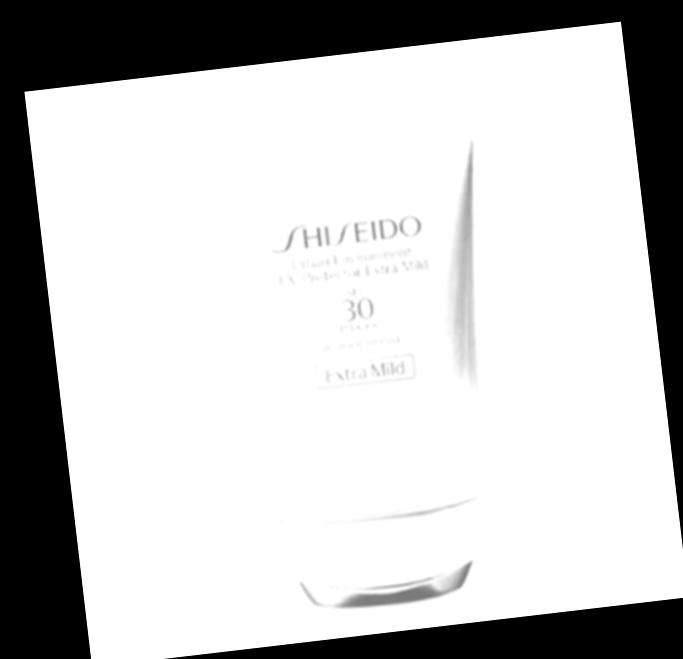cosmetic: (197, 106, 531, 625)
